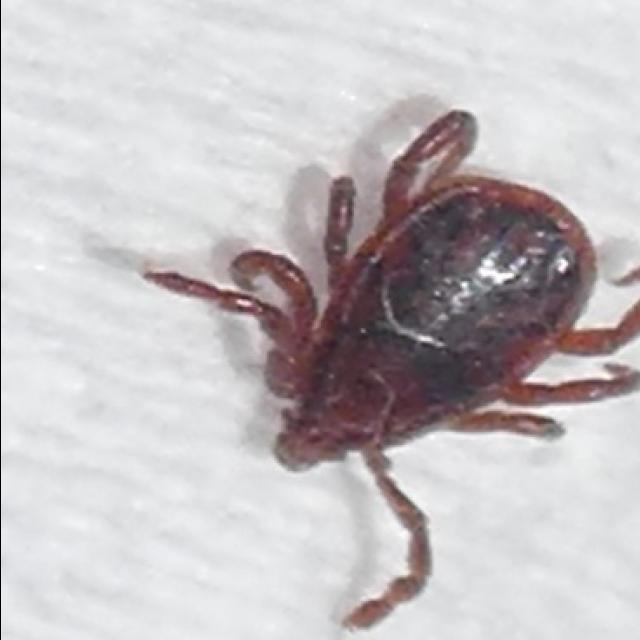Rhipicephalus Sanguineus-M: (139, 107, 640, 632)
